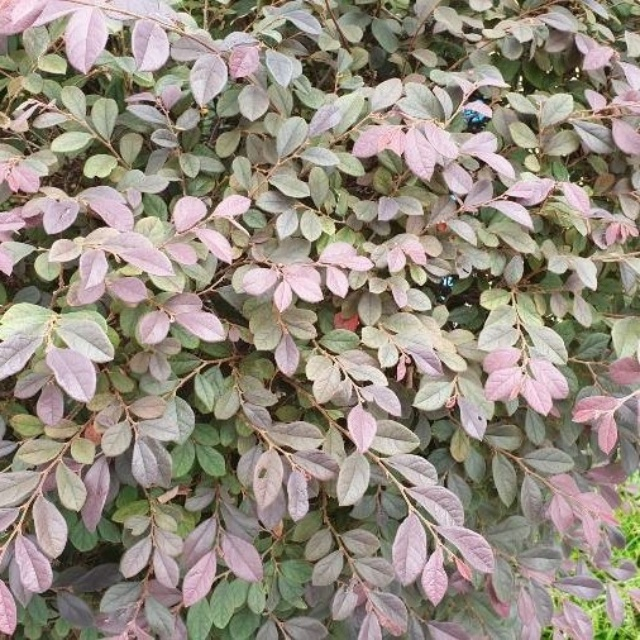obstacle: (119, 118, 503, 582)
